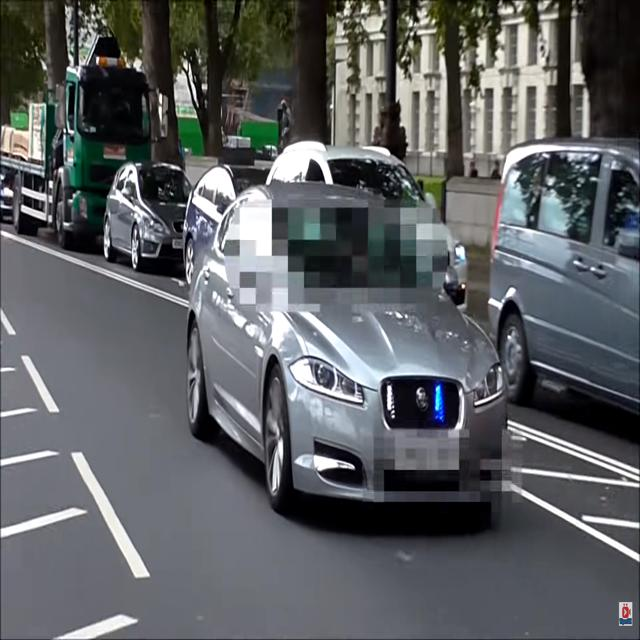emergency-vehicles: (178, 179, 516, 553)
